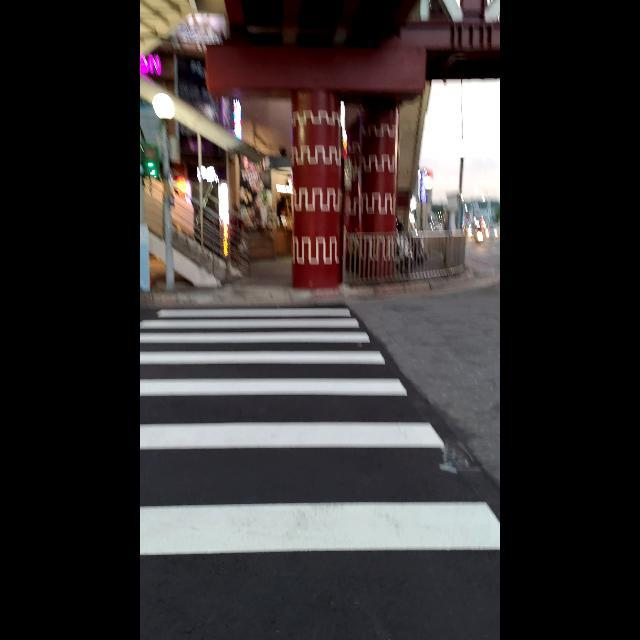sidewalk: (140, 299, 500, 636)
